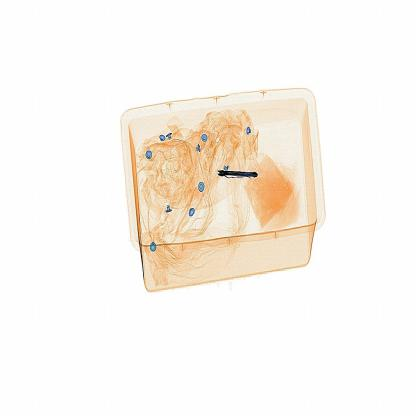knife: (216, 164, 267, 186)
